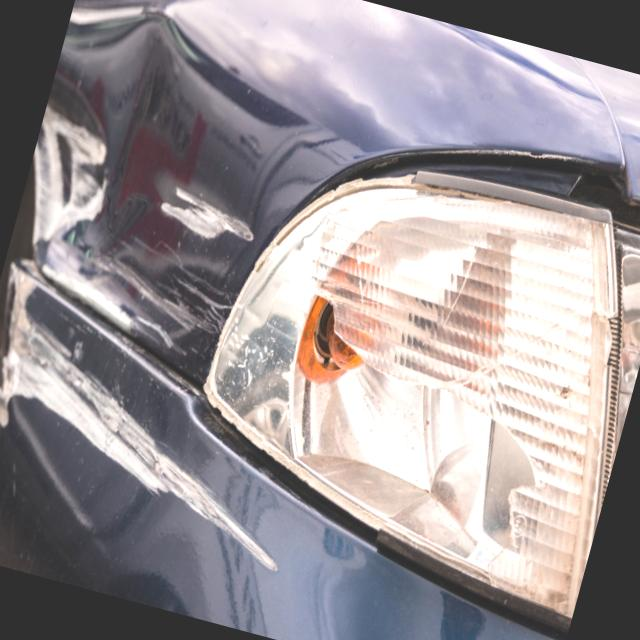Phare abime: (191, 201, 600, 556)
Rayure: (0, 272, 338, 586), (0, 89, 270, 383)
